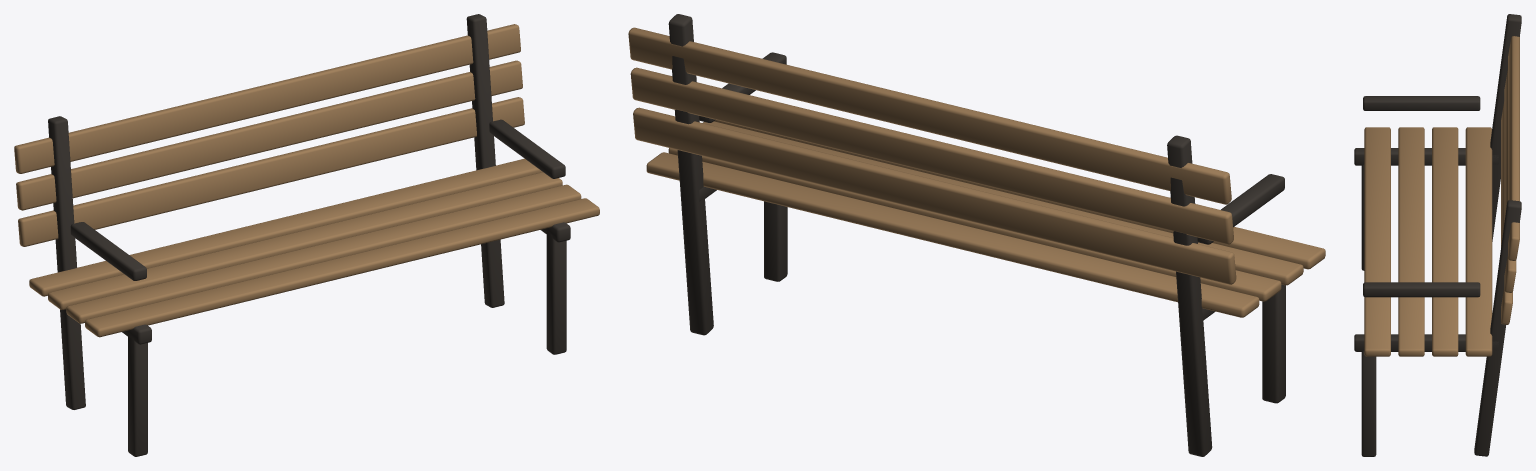
Rendered from station_bench.glb.
3 views of the same model, side by side, from view 1: azimuth 30°, elevation 25°; view 2: azimuth 150°, elevation 25°; view 3: azimuth 270°, elevation 25° (orthographic). The views are drawn at different scales.
Visible parts, largest first — view 1: station_bench.001; view 2: station_bench.001; view 3: station_bench.001.
Boxes of the visible parts, bbox=[...] form: station_bench.001: bbox=[14, 14, 599, 456]; station_bench.001: bbox=[628, 14, 1325, 456]; station_bench.001: bbox=[1354, 14, 1521, 456].
Size of the model in its own units: 1.8 by 0.9486 by 0.5707.
